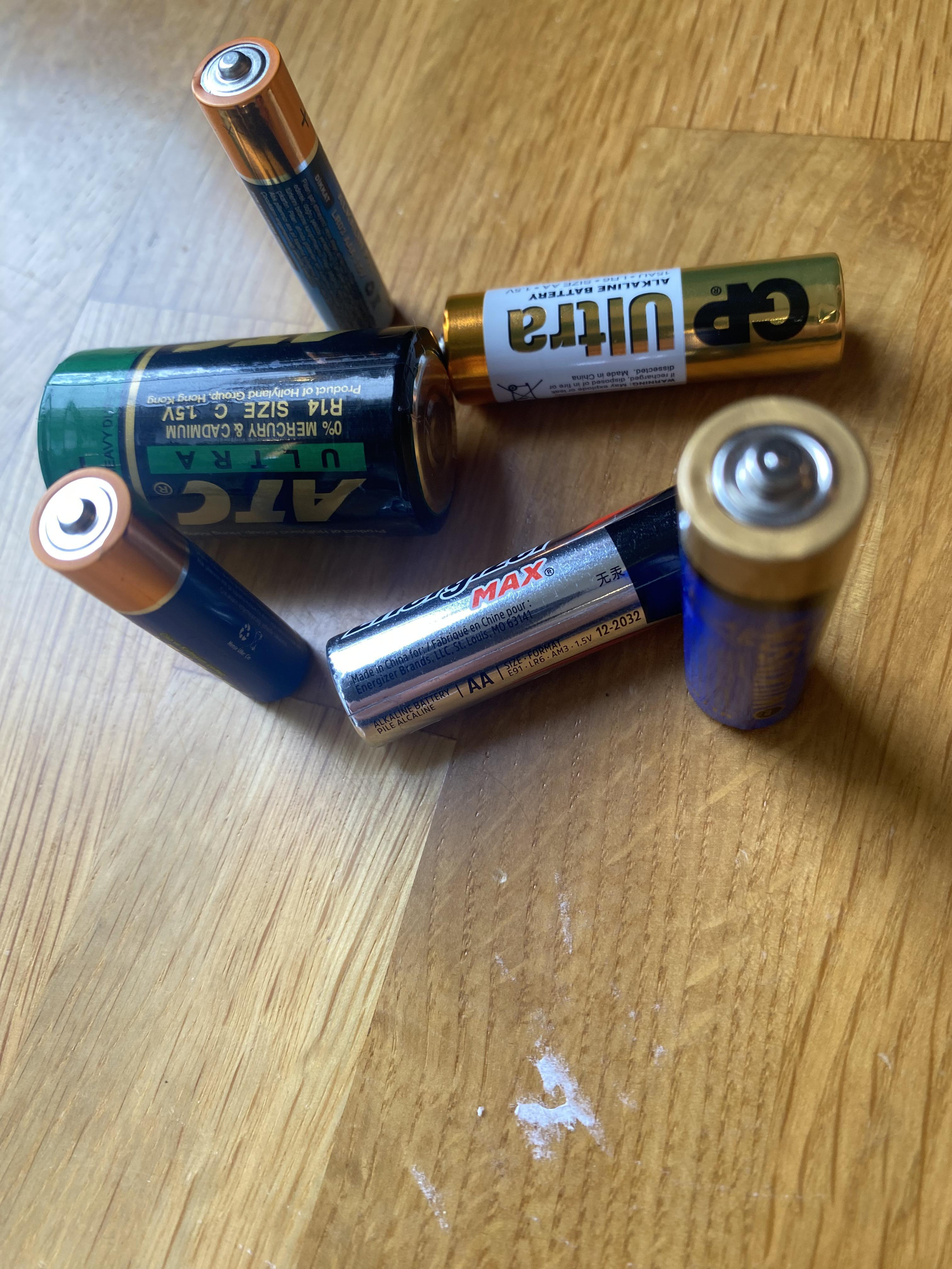AA: (326, 474, 683, 753), (675, 392, 877, 737), (435, 242, 852, 409)
AAA: (23, 461, 318, 713), (190, 32, 400, 336)
